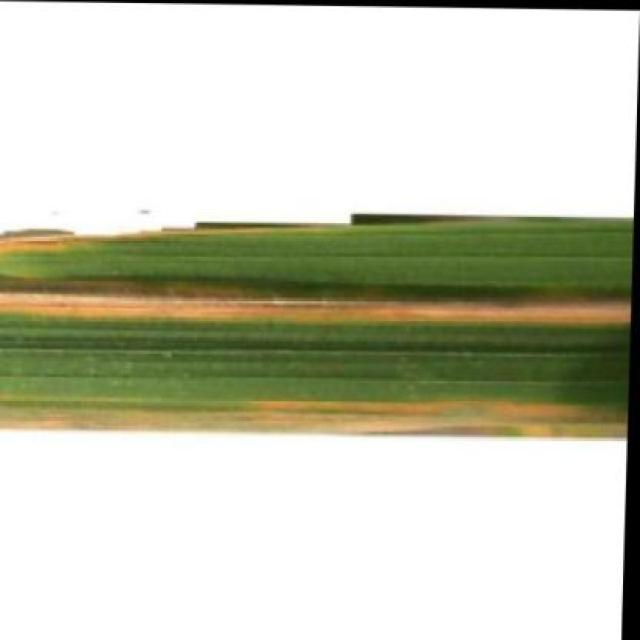Brown_Spot: (0, 198, 635, 439)
